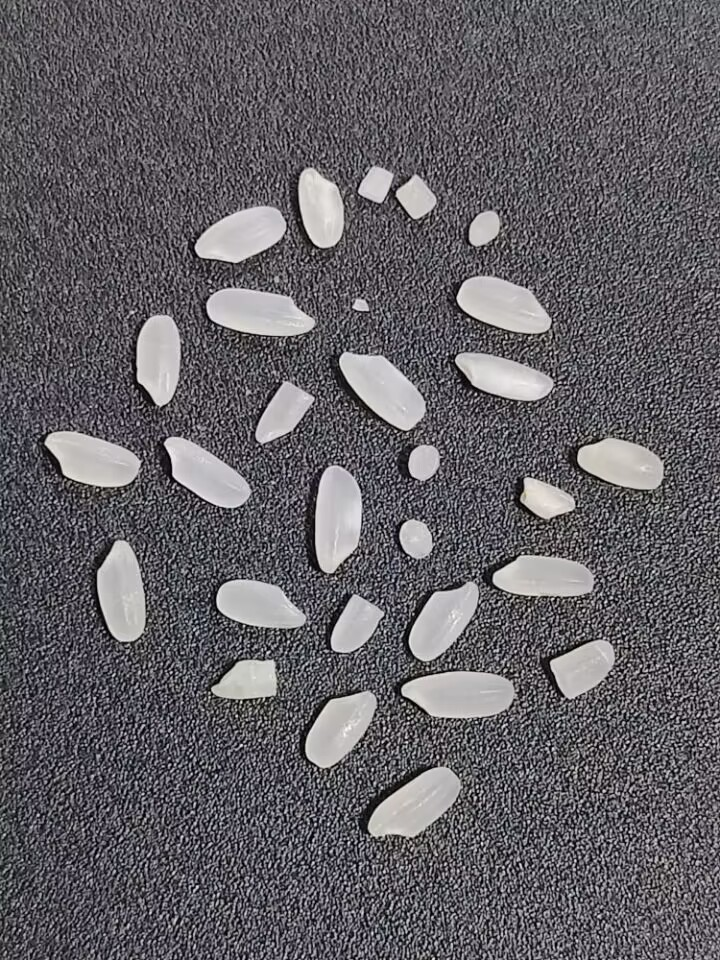broken: (252, 379, 316, 445), (549, 639, 616, 698), (330, 594, 384, 653), (208, 658, 280, 701), (518, 475, 576, 522), (393, 172, 437, 222), (398, 513, 436, 563), (357, 162, 396, 205), (466, 207, 503, 248), (407, 442, 442, 483)
rice: (338, 350, 426, 434), (402, 576, 485, 662), (366, 766, 463, 839), (164, 433, 252, 512), (399, 670, 516, 720), (304, 689, 378, 768), (457, 273, 552, 334), (94, 537, 148, 644), (194, 202, 287, 264), (204, 286, 314, 338), (313, 462, 363, 574), (44, 430, 141, 487), (452, 350, 553, 402), (576, 435, 665, 491), (213, 579, 309, 629), (134, 312, 182, 408), (491, 554, 594, 598), (297, 166, 345, 251)
